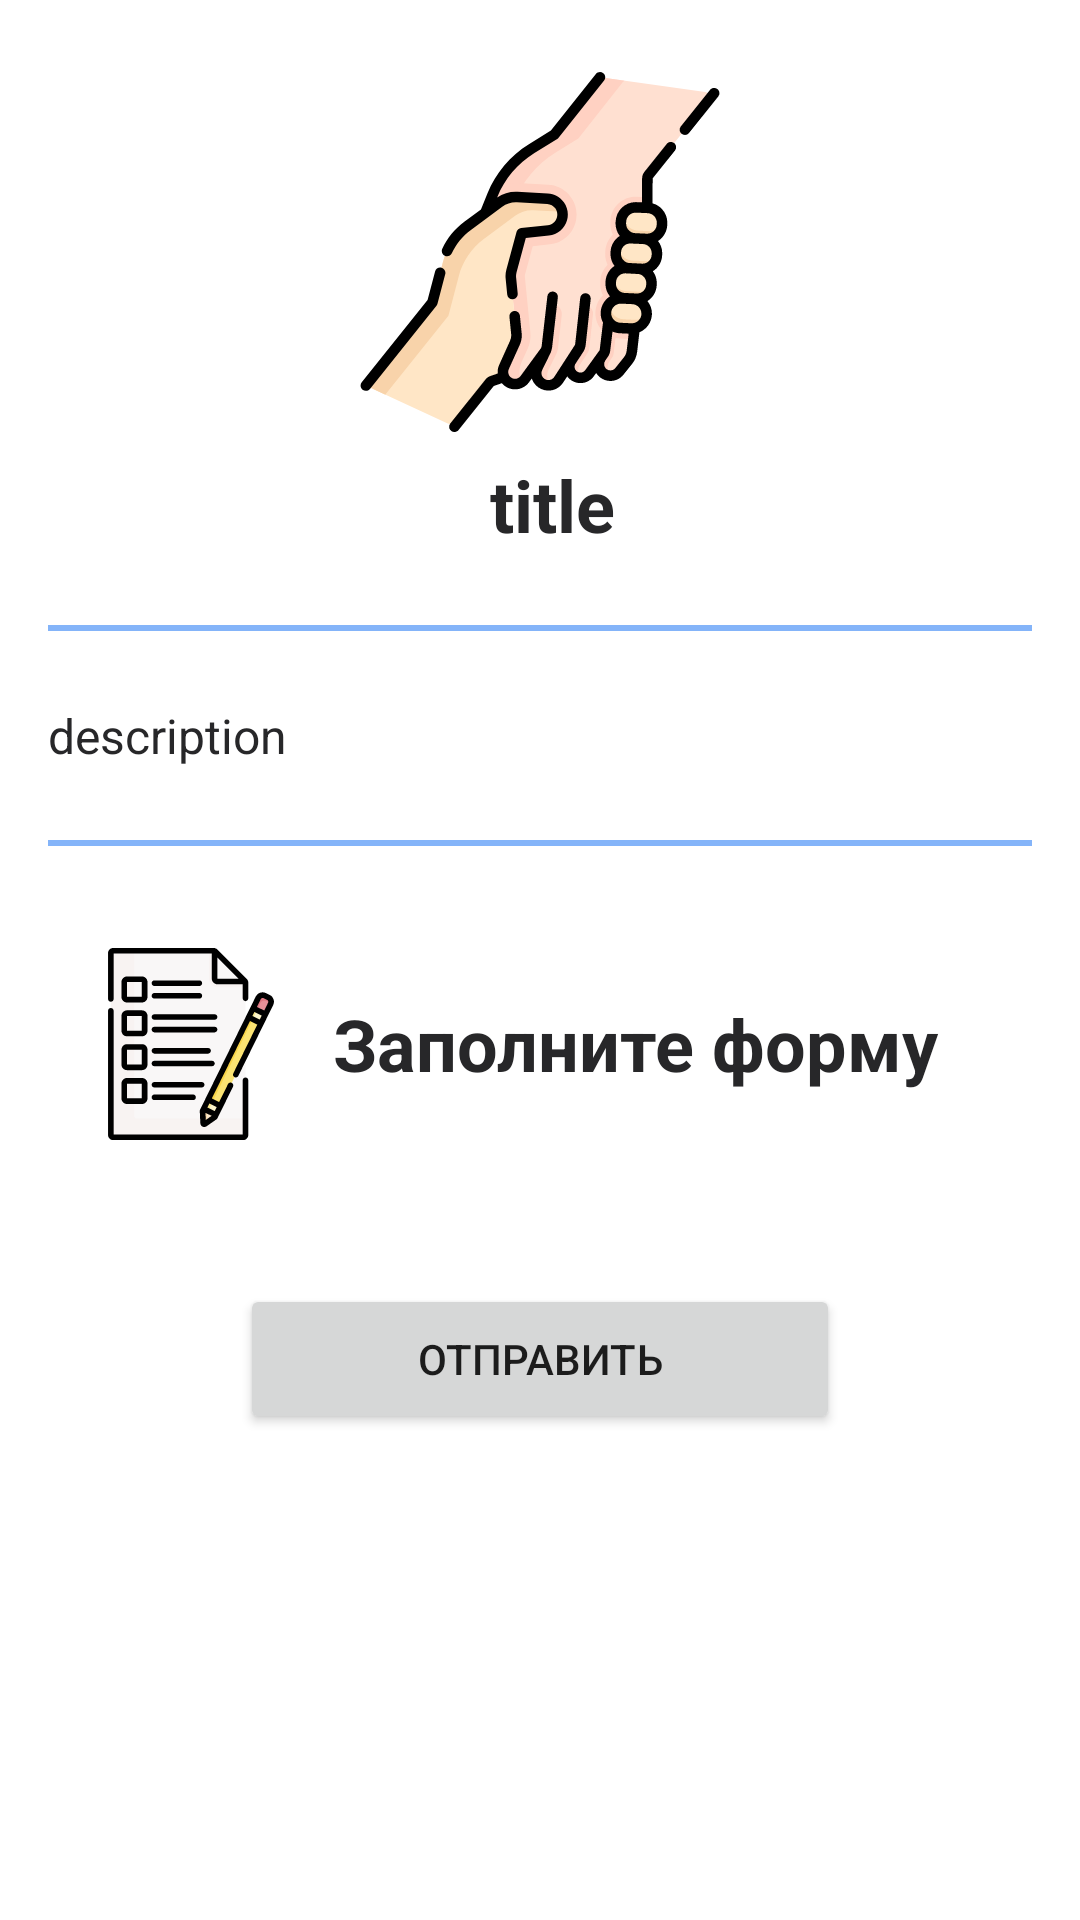

Where icons sit on this 1080 x 1920 app screen, as box(x1, y1, x2, y2):
form: box(108, 948, 274, 1140)
support: box(360, 72, 720, 432)
